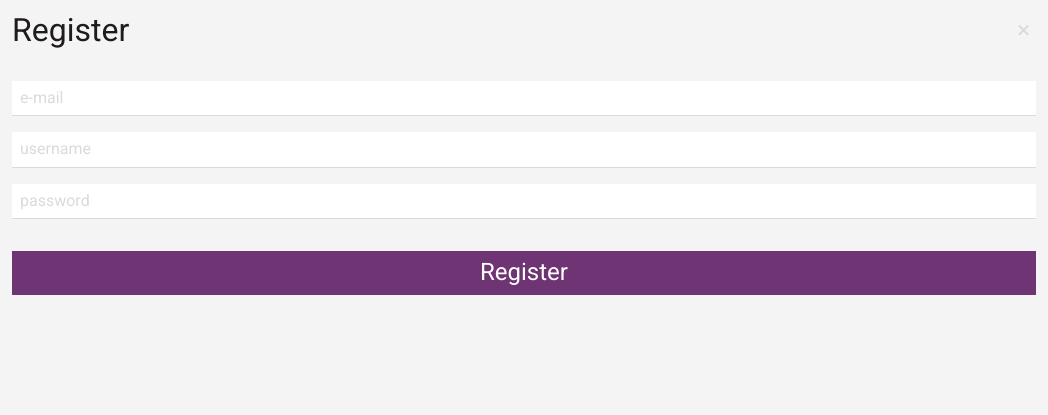
Test: <RegisterForm/> › Should display error if username is too short
Type "u" into the field with placeholder "username" at (524, 150), box [12,132,1036,168]
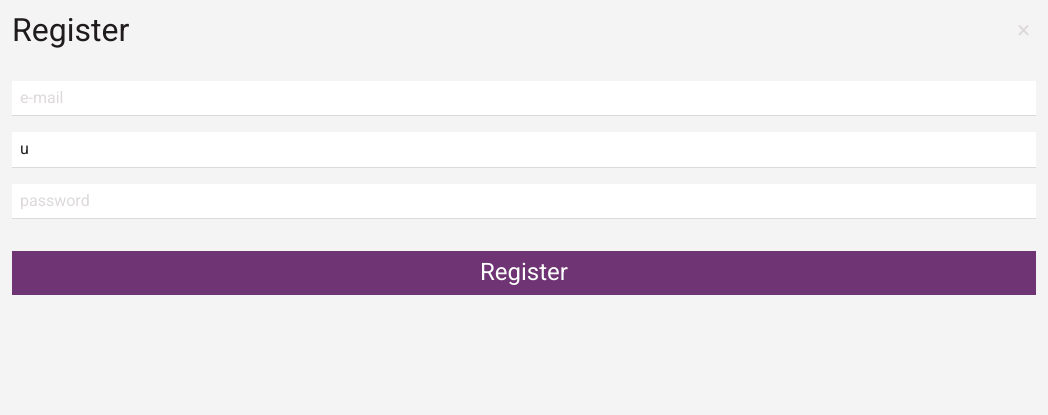
Click the button with test id "submitButton" at (524, 273), box [12,251,1036,295]
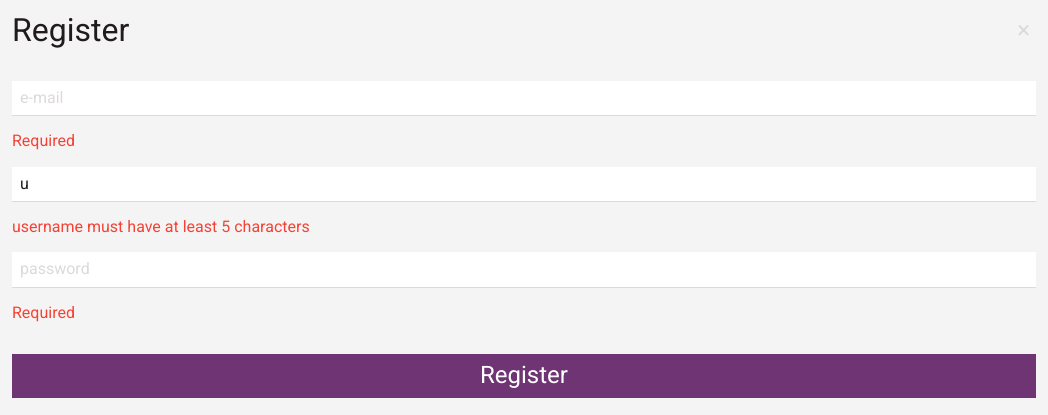
expect the text "Required" is shown 2 times: met, box [12,131,75,150]; [12,303,75,322]
expect the text "username must have at least 5 characters" is shown: met, box [12,217,310,236]
